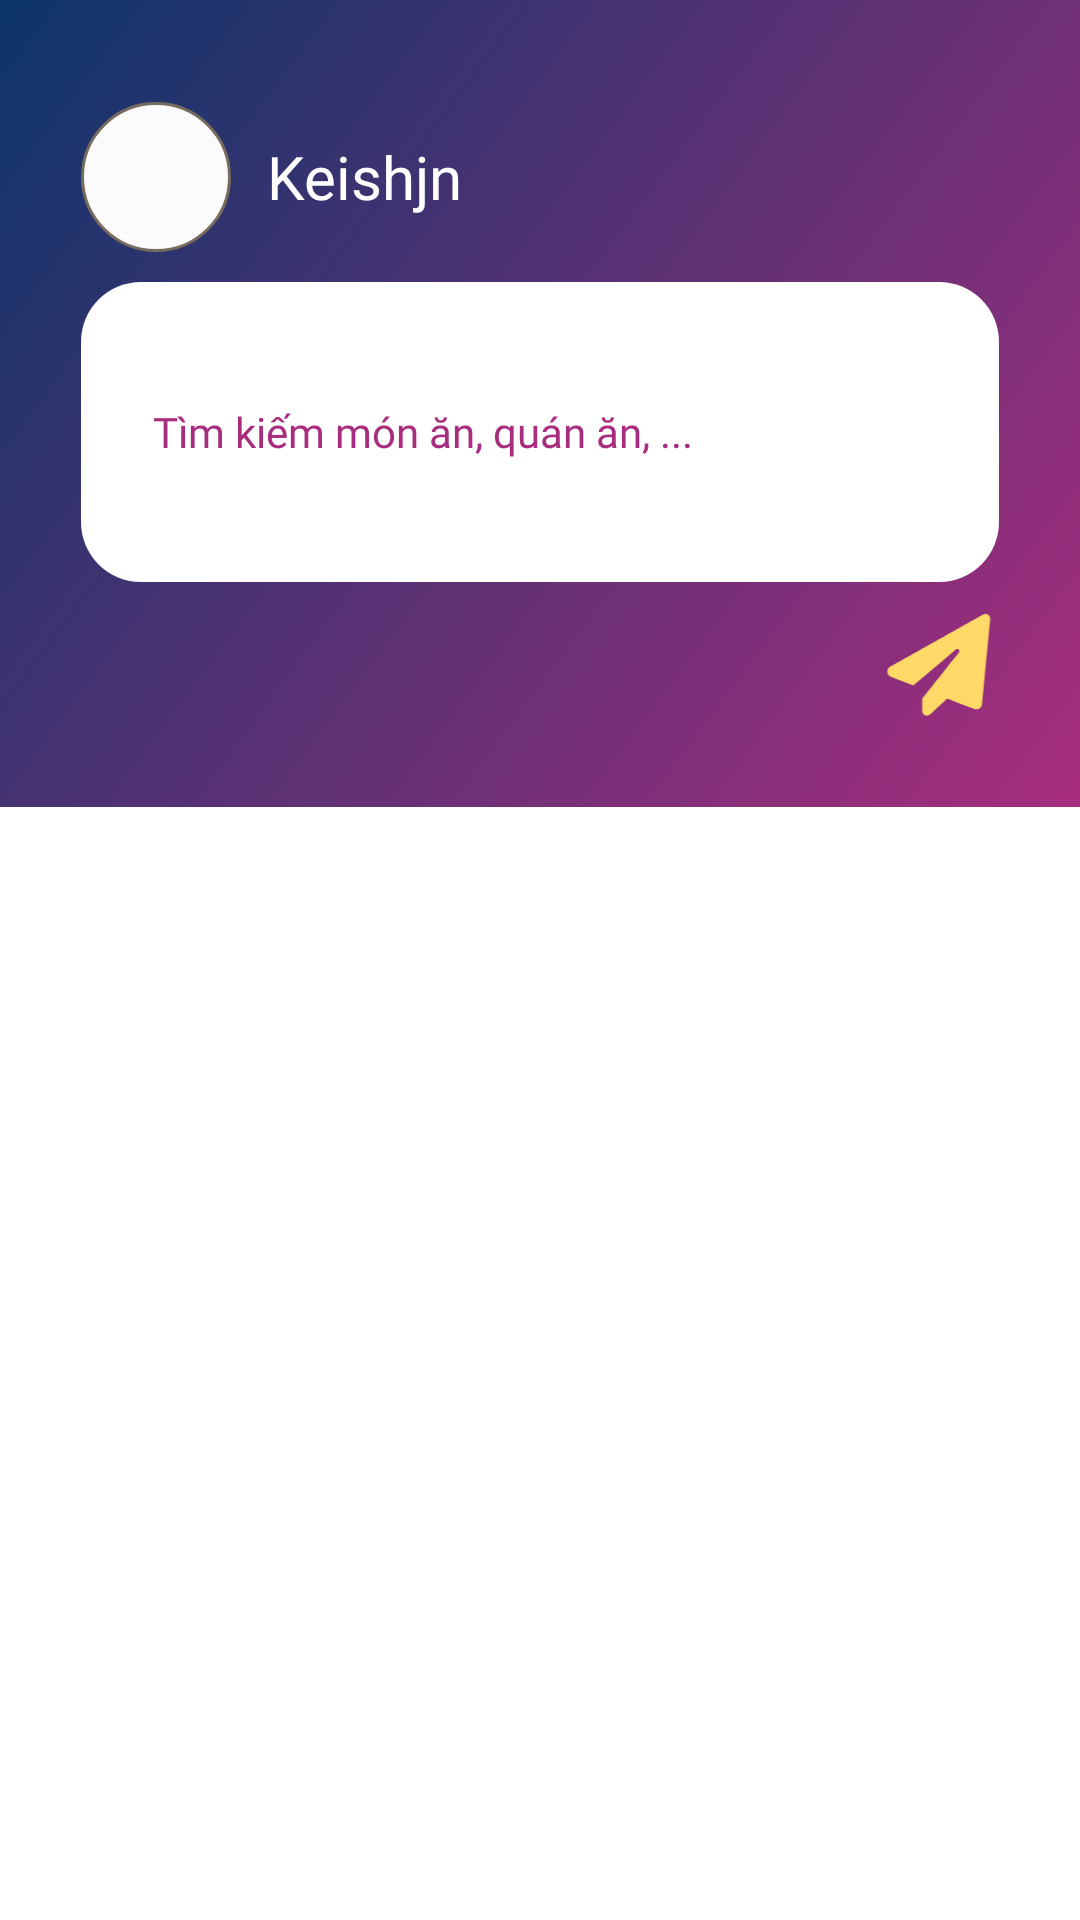

Icon click points for this 1080 × 1920 phone screenshot, format [x,y]:
send: [939,665]
